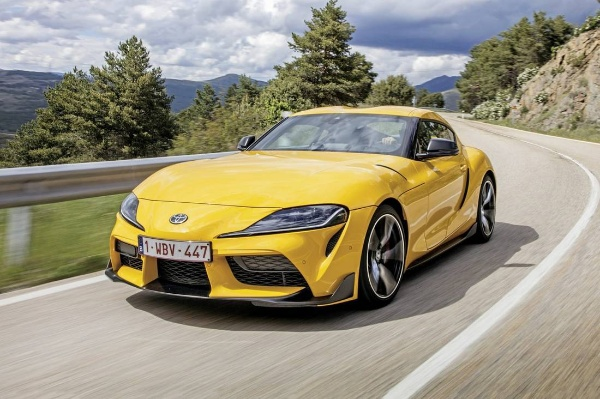licence: (139, 237, 213, 259)
